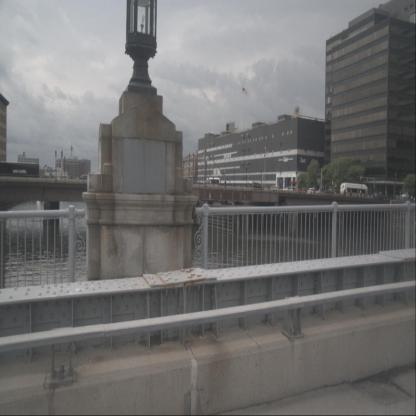human-pedestrian-adult: (356, 188, 360, 199), (359, 189, 362, 199)
vehicle-bus-rigid: (340, 182, 368, 199), (205, 178, 220, 186)
vehicle-car: (76, 173, 92, 182), (307, 187, 318, 196), (252, 182, 262, 189)
